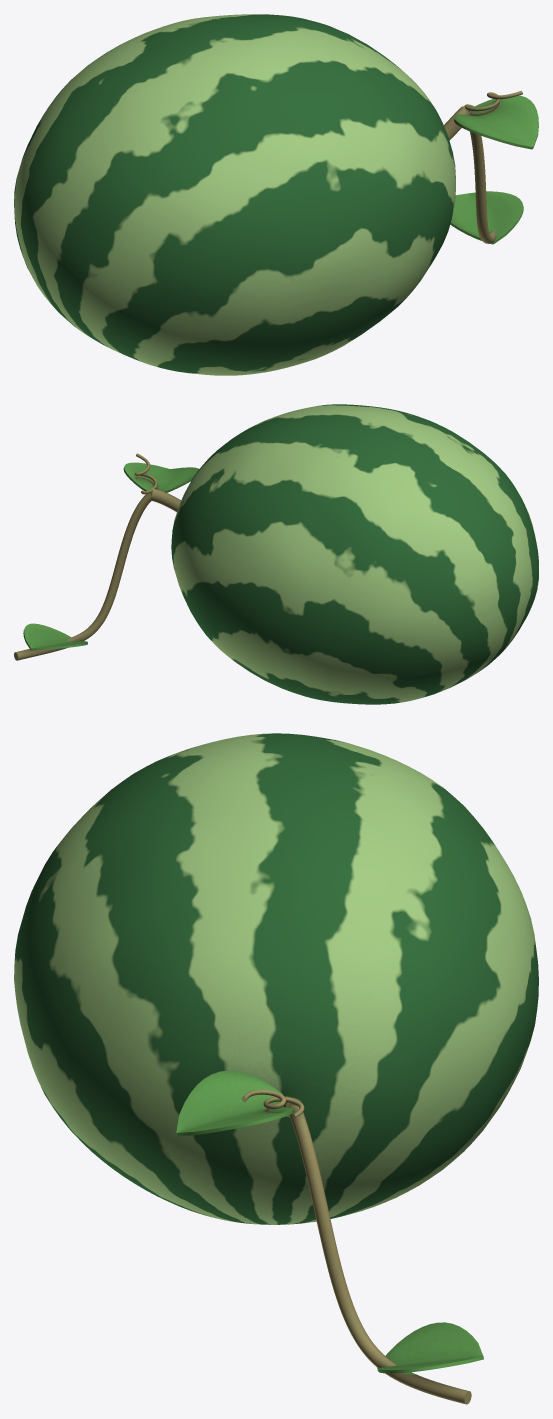
File: SK_Watermelon.fbx
3 views of the same model, one above another, from view 1: azimuth 30°, elevation 25°; view 2: azimuth 150°, elevation 25°; view 3: azimuth 270°, elevation 25° (orthographic). The views are drawn at different scales.
Parts seen in each view (by area): view 1: SK_Watermelon; view 2: SK_Watermelon; view 3: SK_Watermelon.
Part boxes in pixels (<box>): SK_Watermelon: <box>14,14,538,375</box>; SK_Watermelon: <box>14,404,538,704</box>; SK_Watermelon: <box>14,733,538,1404</box>.
Bounding box in the file's own units: 1633 × 919 × 1042.
